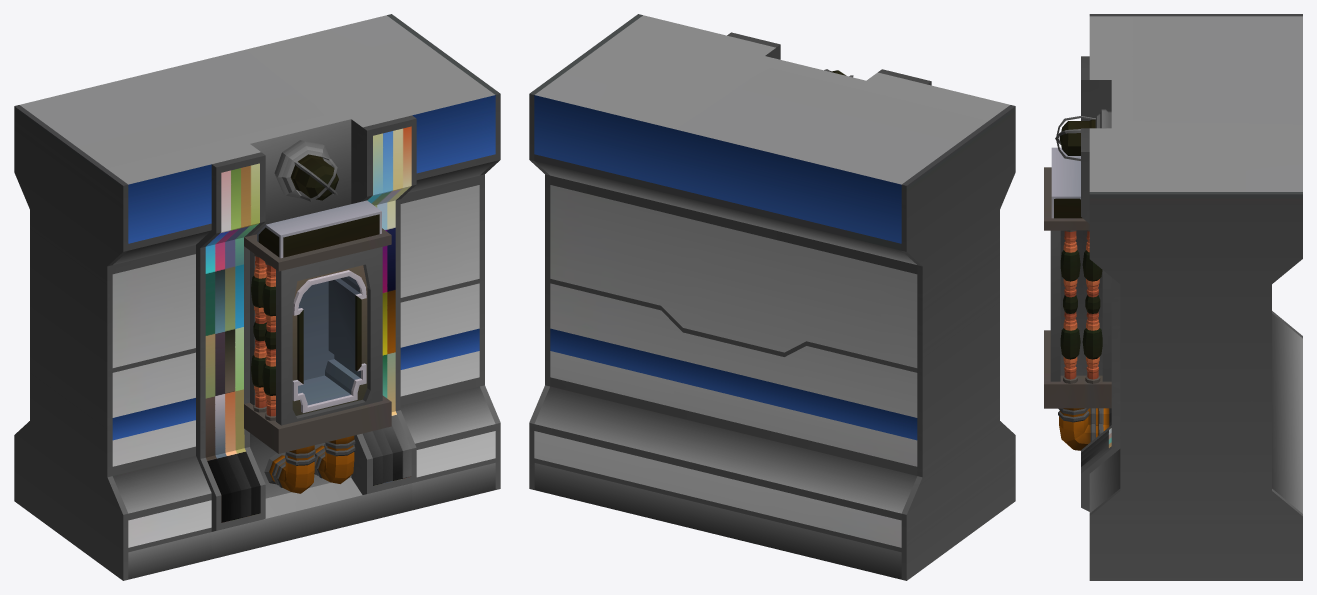
File: Pared_Connection.fbx
3 views of the same model, side by side, from view 1: azimuth 30°, elevation 25°; view 2: azimuth 150°, elevation 25°; view 3: azimuth 270°, elevation 25° (orthographic). The views are drawn at different scales.
Parts seen in each view (by area): view 1: Connection, Shader_Efecto, light; view 2: Connection; view 3: Connection, light, Shader_Efecto.
Boxes of the visible parts, <box> form: Connection: <box>14,14,500,580</box>; Shader_Efecto: <box>205,126,411,522</box>; light: <box>274,140,338,201</box>; Connection: <box>529,14,1015,580</box>; Connection: <box>1044,14,1302,580</box>; light: <box>1055,109,1111,160</box>; Shader_Efecto: <box>1081,428,1111,470</box>.
Bounding box in the file's own units: 100 × 100 × 60.63.
